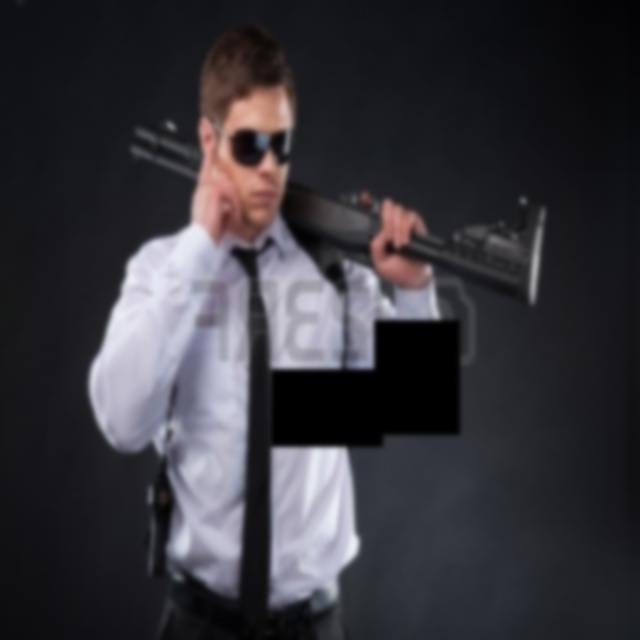gun: (126, 115, 551, 317)
